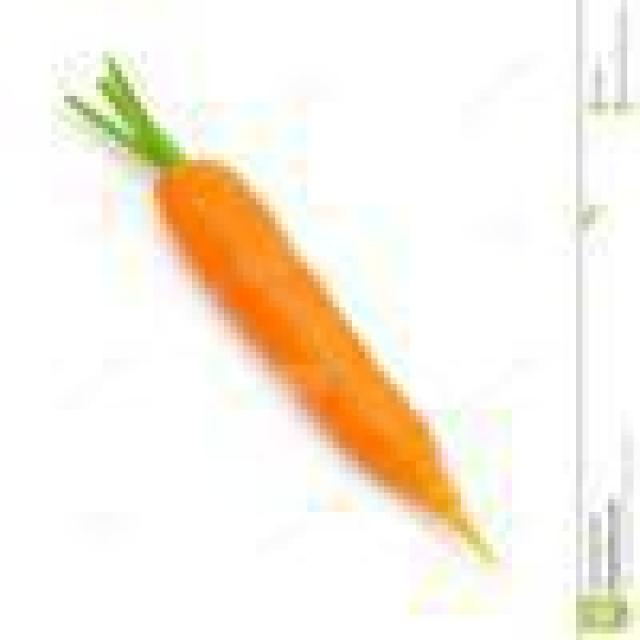Fresh_Carrot: (145, 166, 470, 529)
